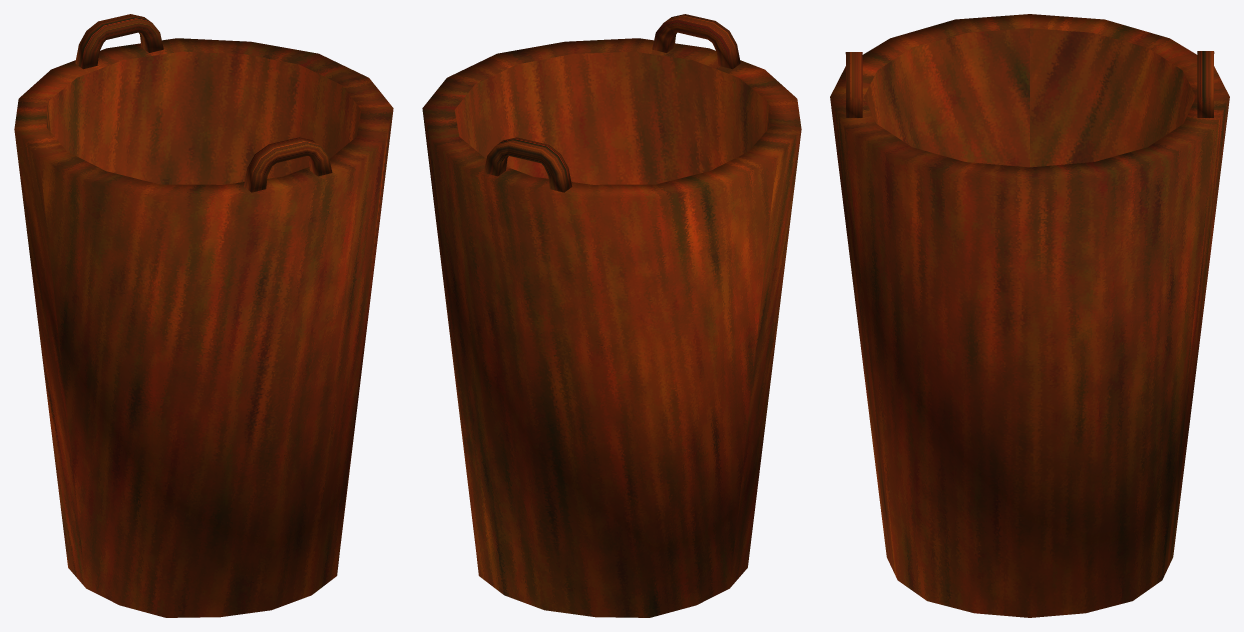
File: Basket.fbx
3 views of the same model, side by side, from view 1: azimuth 30°, elevation 25°; view 2: azimuth 150°, elevation 25°; view 3: azimuth 270°, elevation 25° (orthographic). The views are drawn at different scales.
Visible parts, largest first — view 1: Basket; view 2: Basket; view 3: Basket.
Boxes of the visible parts, x1,y1,x2,y2 form: Basket: (14,14,393,617); Basket: (422,14,801,617); Basket: (830,14,1229,617).
Size of the model in its own units: 0.8414 by 1.17 by 0.848.
